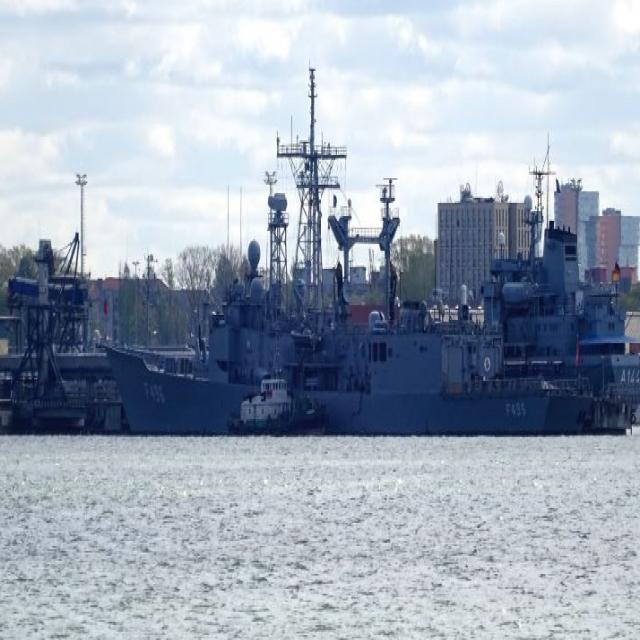Fragata: (95, 77, 557, 440)
